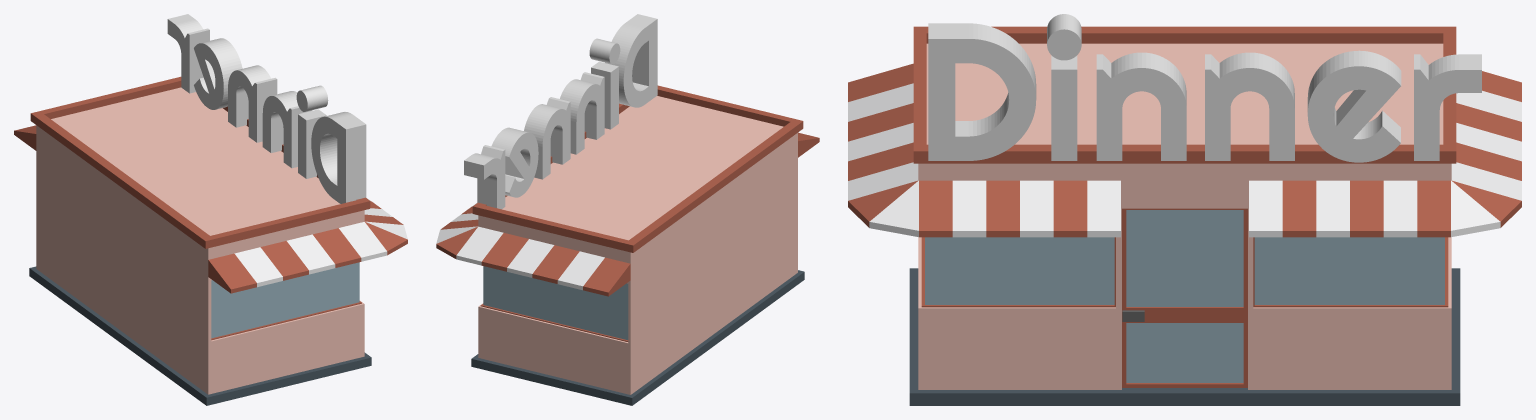
The model's file is food-shop.glb.
The picture shows the model from 3 angles, left to right: view 1: azimuth 30°, elevation 25°; view 2: azimuth 150°, elevation 25°; view 3: azimuth 270°, elevation 25°; orthographic projection. The views are drawn at different scales.
Visible parts, largest first — view 1: food shop; view 2: food shop; view 3: food shop.
Part boxes in pixels (x1,y1,x2,y2): food shop: [14, 14, 407, 405]; food shop: [436, 14, 819, 405]; food shop: [848, 14, 1521, 405].
Bounding box in the file's own units: 3.4 × 3.93 × 6.37.
Materials: 1 (1 with a texture image).
